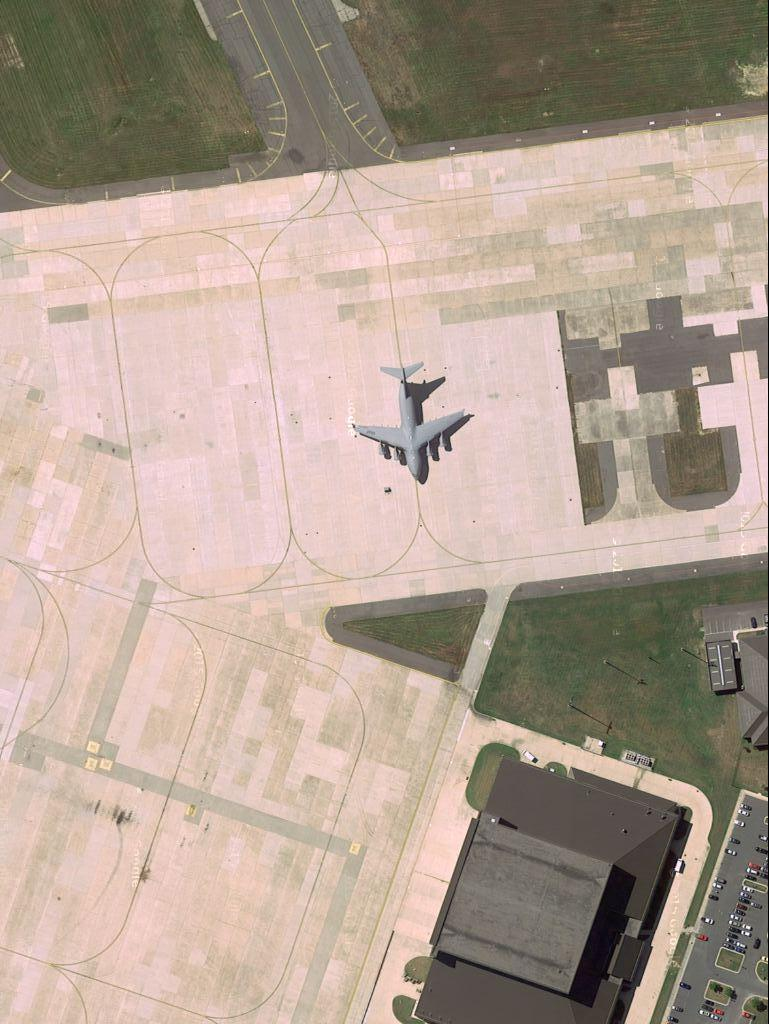C-17: (348, 360, 476, 482)
